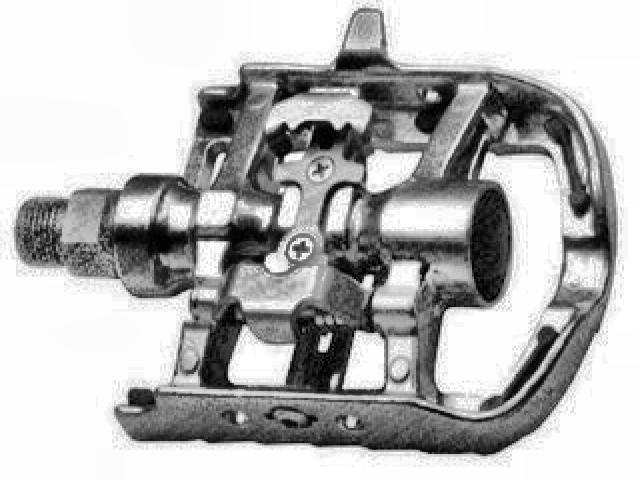pedal: (11, 4, 620, 450)
